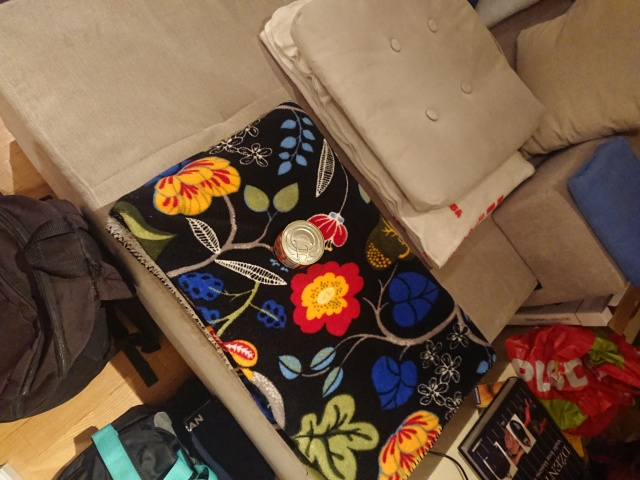Podravka Luncheon Meat 150g: (271, 217, 326, 272)
